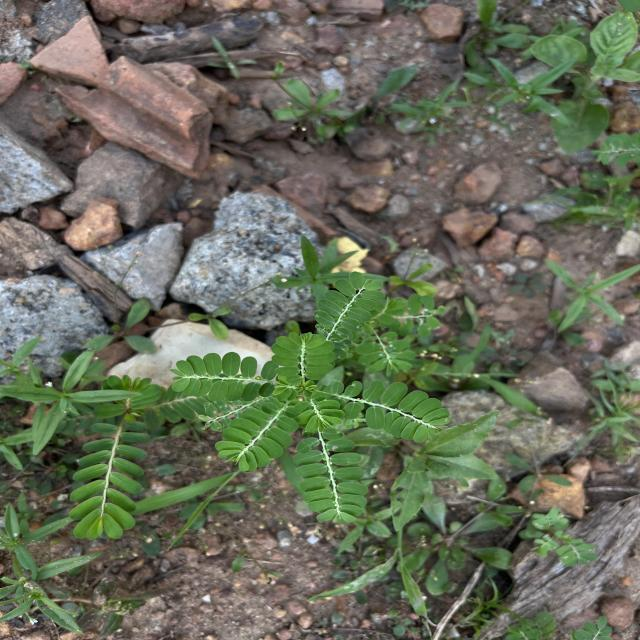Phyllanthus niruri: (66, 413, 152, 542), (338, 381, 454, 444), (214, 398, 301, 472), (296, 428, 365, 518), (166, 349, 278, 402), (312, 268, 384, 344), (270, 329, 336, 386)
